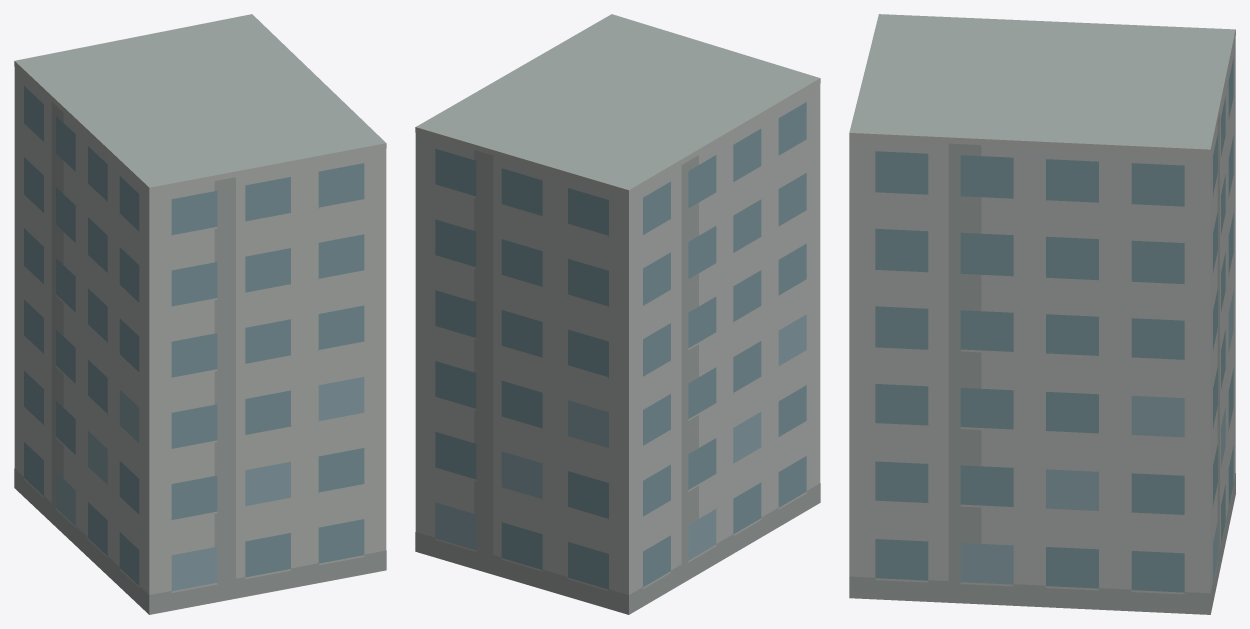
The model's file is survey-upis-32566375.glb.
3 views of the same model, side by side, from view 1: azimuth 30°, elevation 25°; view 2: azimuth 150°, elevation 25°; view 3: azimuth 270°, elevation 25° (orthographic). The views are drawn at different scales.
Parts seen in each view (by area): view 1: survey-upis-32566375.tmp; view 2: survey-upis-32566375.tmp; view 3: survey-upis-32566375.tmp.
Part boxes in pixels (x1=…): survey-upis-32566375.tmp: x1=14, y1=14, x2=386, y2=614; survey-upis-32566375.tmp: x1=415, y1=14, x2=820, y2=614; survey-upis-32566375.tmp: x1=849, y1=14, x2=1235, y2=614.
Bounding box in the file's own units: 11.44 × 18.3 × 13.78.
